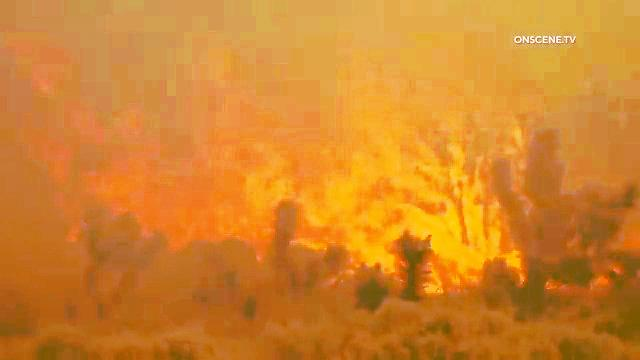fire: (92, 92, 559, 293)
